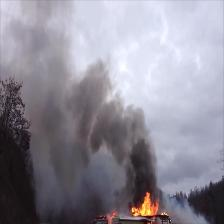fire: (127, 188, 170, 224), (100, 207, 120, 224)
smoke: (19, 4, 163, 185)
